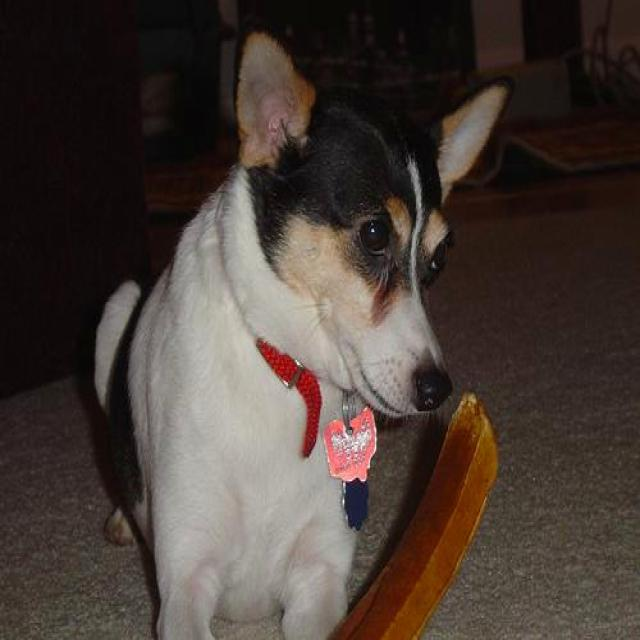toy_terrier: (87, 29, 507, 638)
